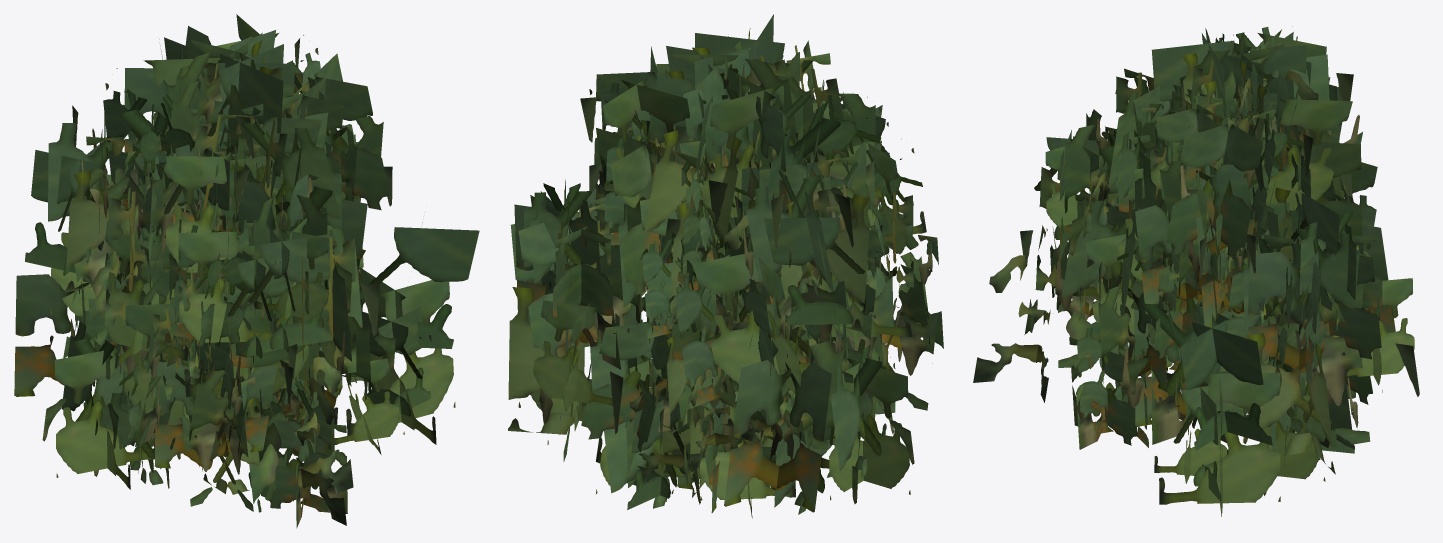
File: rounded-shrub-lod1.glb
The picture shows the model from 3 angles, left to right: view 1: azimuth 30°, elevation 25°; view 2: azimuth 150°, elevation 25°; view 3: azimuth 270°, elevation 25°; orthographic projection. The views are drawn at different scales.
Visible parts, largest first — view 1: foliage; view 2: foliage; view 3: foliage.
Part boxes in pixels (left/top/right/bottom): foliage: left=14, top=14, right=479, bottom=528; foliage: left=508, top=14, right=943, bottom=518; foliage: left=973, top=26, right=1419, bottom=516.
Size of the model in its own units: 1.28 by 1.29 by 1.33.
1 material, 1 textured.
